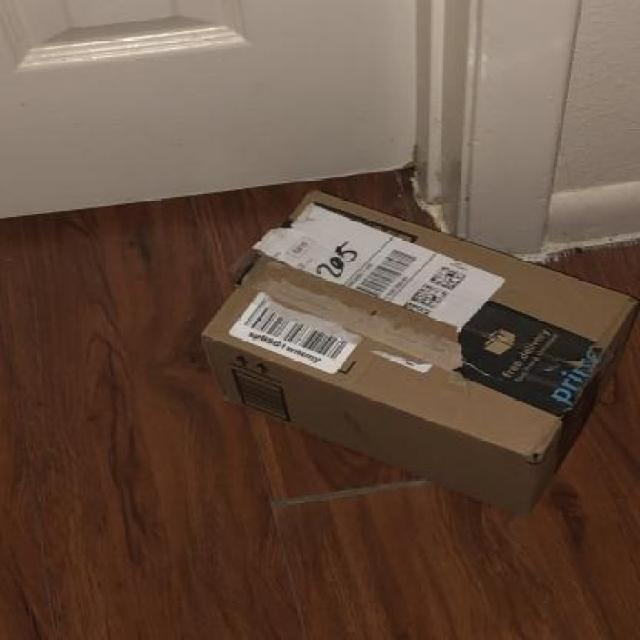box: (199, 191, 639, 515)
